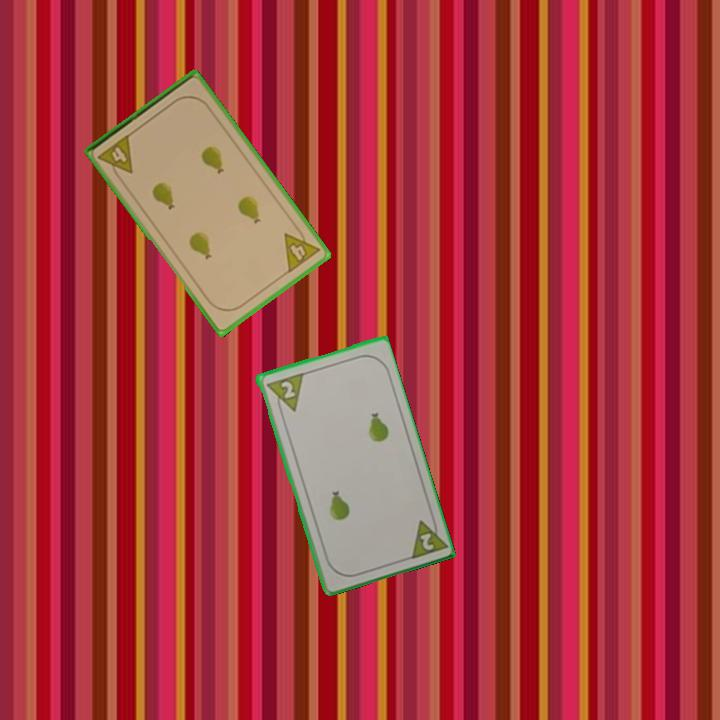2p: (405, 512, 448, 562), (262, 369, 305, 418)
4p: (281, 222, 323, 276), (94, 131, 136, 183)
